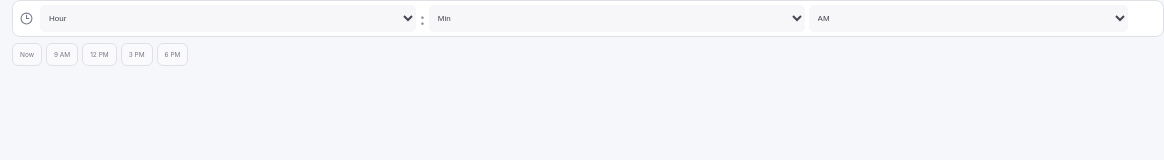
it: FriendlyTimePicker › changes hour, minute and period without relying on the native segmented time field
This screenshot has width=1164, height=160.
Select "4" in the dropdown named "Proposed time hour". click: x=228, y=18
box: [40, 5, 416, 32]
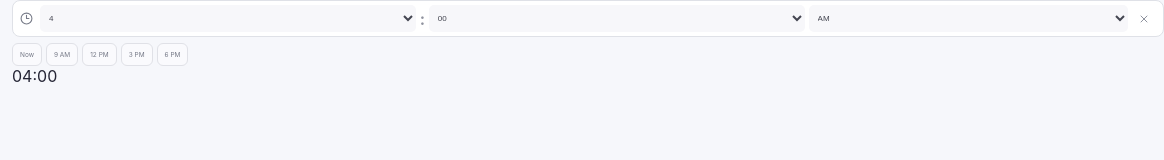
Expected: the text named "stored time" reads "04:00", [12, 66, 57, 86]
Select "30" in the dropdown named "Proposed time minute". click: x=617, y=18
box: [429, 5, 805, 32]
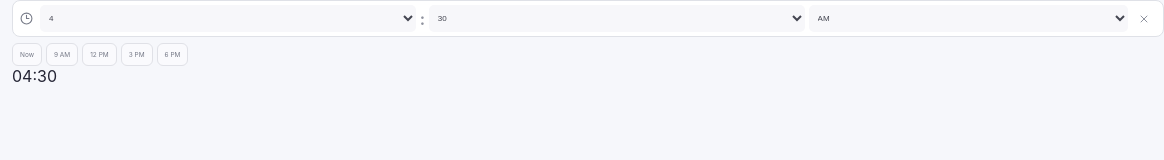
Select "PM" in the dropdown named "Proposed time period". click: x=968, y=18
box: [809, 5, 1128, 32]
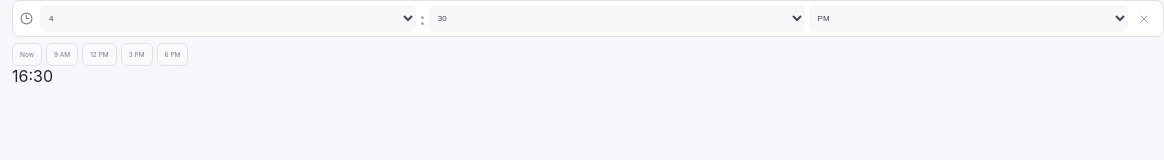
Expected: the text named "stored time" reads "16:30", [12, 66, 53, 86]
